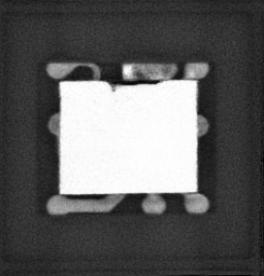DIE_BROKEN: (105, 77, 166, 88)
